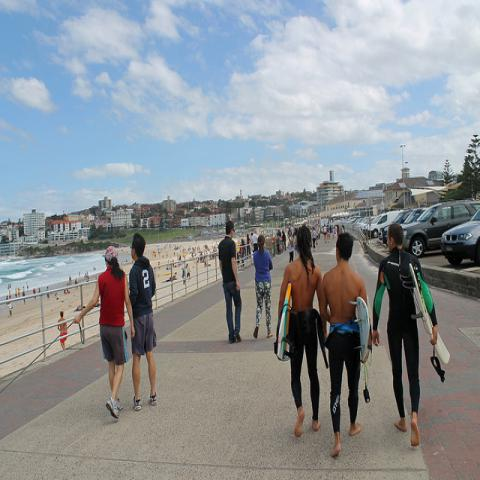car: (402, 200, 480, 254), (443, 202, 479, 266), (381, 210, 412, 246), (365, 211, 404, 238), (360, 216, 376, 232), (356, 217, 368, 224)
